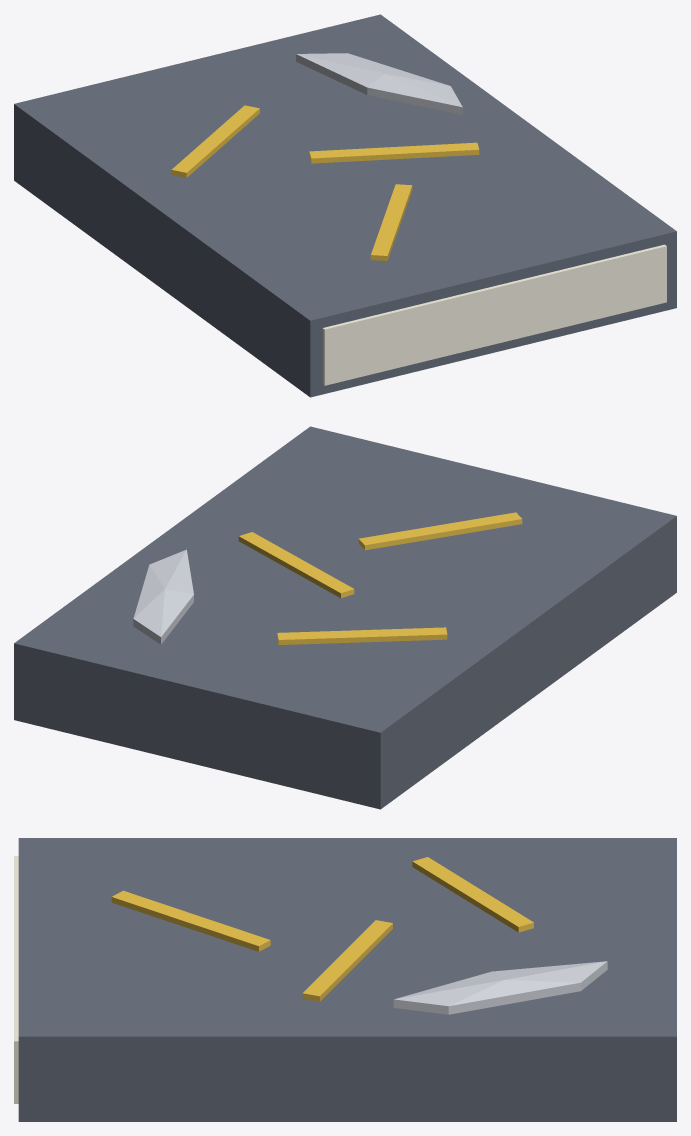
File: route_book.glb
3 renders of one model, top to bottom at view 1: azimuth 30°, elevation 25°; view 2: azimuth 150°, elevation 25°; view 3: azimuth 270°, elevation 25°, orthographic. The views are drawn at different scales.
Visible parts, largest first — view 1: cover_route_cover, pages_book_pages, ink_route_ink (×3), feather_feather; view 2: cover_route_cover, ink_route_ink (×3), feather_feather; view 3: cover_route_cover, ink_route_ink (×3), feather_feather, pages_book_pages.
Boxes of the visible parts, x1=… form: cover_route_cover: x1=14, y1=14, x2=676, y2=397; pages_book_pages: x1=322, y1=244, x2=666, y2=385; ink_route_ink (×3): x1=171, y1=105, x2=479, y2=260; feather_feather: x1=296, y1=53, x2=462, y2=114; cover_route_cover: x1=14, y1=426, x2=676, y2=809; ink_route_ink (×3): x1=238, y1=512, x2=522, y2=644; feather_feather: x1=133, y1=549, x2=193, y2=644; cover_route_cover: x1=18, y1=838, x2=676, y2=1121; ink_route_ink (×3): x1=111, y1=857, x2=533, y2=1001; feather_feather: x1=393, y1=961, x2=607, y2=1014; pages_book_pages: x1=14, y1=856, x2=18, y2=1103.
Bounding box in the file's own units: 0.15 × 0.036 × 0.2115.
